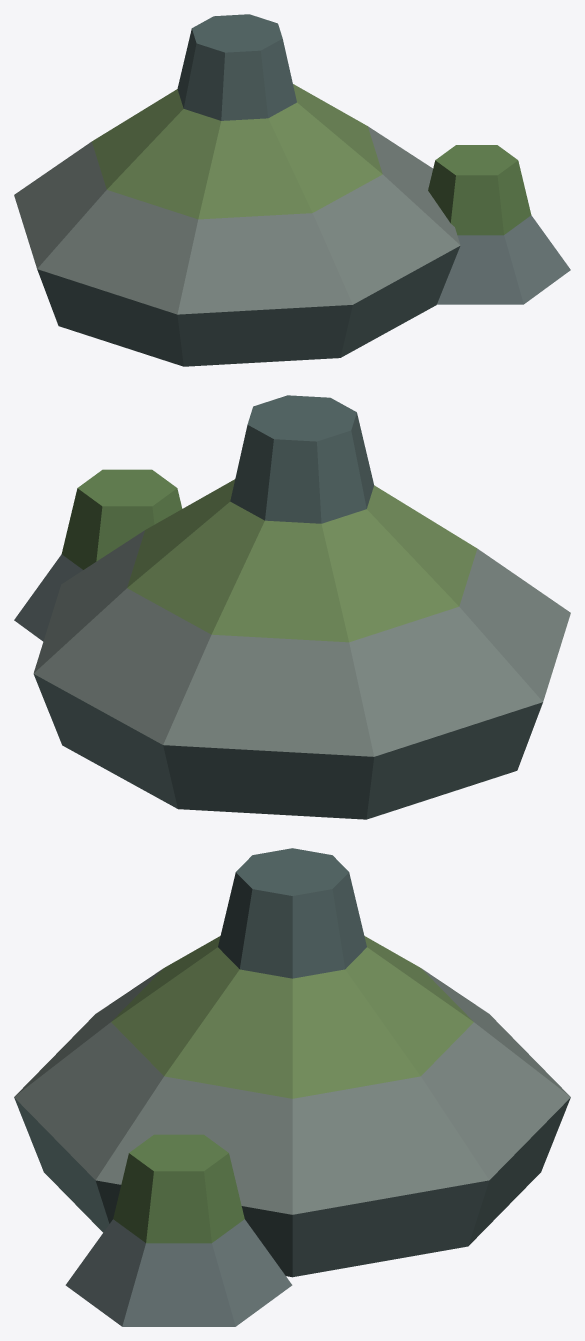
File: moss-boulder.glb
3 views of the same model, one above another, from view 1: azimuth 30°, elevation 25°; view 2: azimuth 150°, elevation 25°; view 3: azimuth 270°, elevation 25° (orthographic). The views are drawn at different scales.
Parts seen in each view (by area): view 1: moss-boulder; view 2: moss-boulder; view 3: moss-boulder.
Part boxes in pixels (<box>): moss-boulder: <box>14,14,570,366</box>; moss-boulder: <box>14,395,570,819</box>; moss-boulder: <box>14,848,570,1326</box>.
Bounding box in the file's own units: 4.77 × 2.45 × 4.12.
